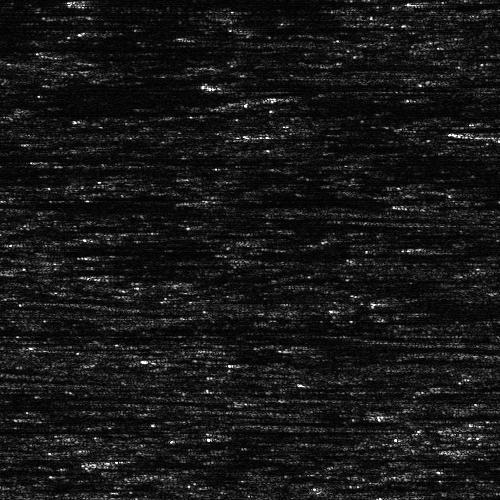rock: (169, 194, 232, 207), (186, 78, 259, 89), (83, 0, 146, 4), (88, 459, 129, 462)
shadow: (201, 194, 377, 207), (223, 78, 415, 89), (0, 324, 104, 333), (0, 154, 101, 161), (109, 459, 267, 462), (115, 0, 208, 4), (0, 166, 108, 169), (0, 40, 25, 49)
